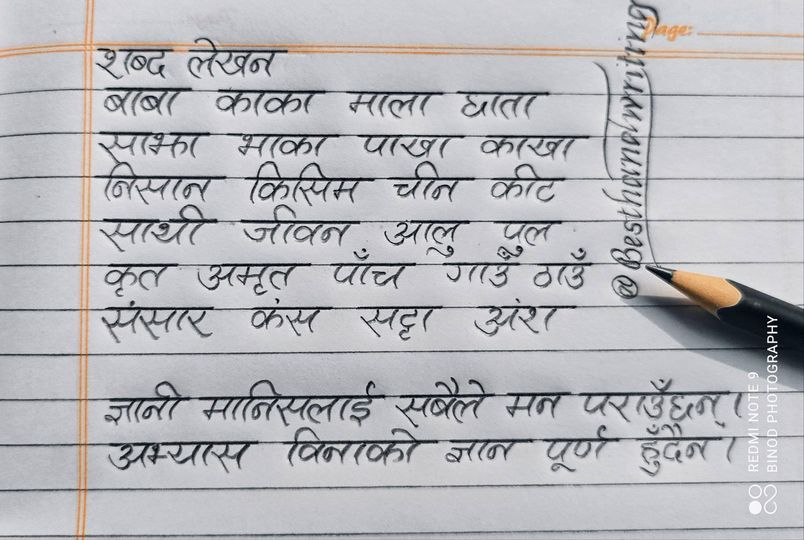text: (200, 380, 390, 426), (578, 376, 733, 428), (279, 425, 427, 472), (244, 160, 375, 208), (94, 204, 219, 253), (237, 205, 361, 254), (104, 436, 261, 471), (99, 298, 215, 345), (95, 163, 228, 202), (394, 378, 494, 427), (186, 35, 288, 83), (633, 423, 720, 479), (92, 125, 210, 166), (467, 299, 579, 340), (212, 86, 328, 124), (197, 259, 314, 296), (100, 381, 191, 428), (226, 125, 340, 162), (341, 86, 446, 126), (350, 299, 446, 342), (383, 161, 475, 205), (479, 129, 590, 164), (457, 85, 550, 126), (545, 423, 619, 473), (248, 296, 332, 340), (487, 162, 565, 208), (355, 131, 466, 163), (439, 252, 523, 294), (96, 258, 179, 299), (381, 219, 471, 256), (327, 258, 417, 295), (89, 44, 176, 82), (97, 84, 190, 119), (443, 434, 534, 467), (486, 215, 564, 253), (501, 386, 574, 424), (533, 249, 595, 293)
